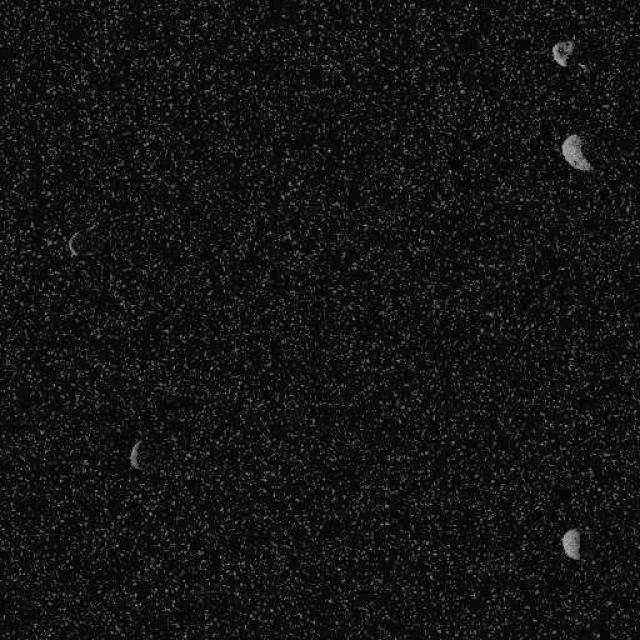D2: (66, 221, 102, 259), (560, 132, 592, 172), (560, 526, 581, 560), (550, 39, 574, 66), (128, 439, 142, 470)
